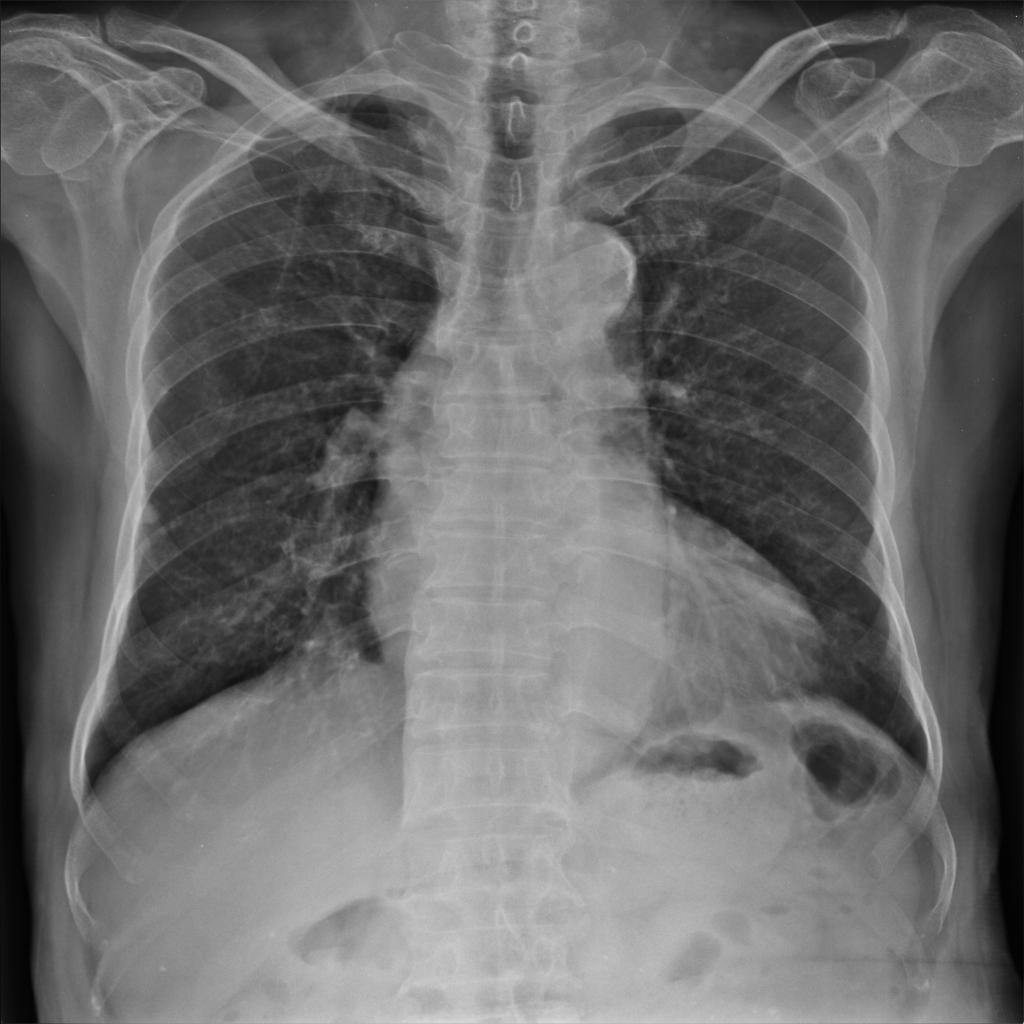Nodule: (144, 503, 160, 526)
